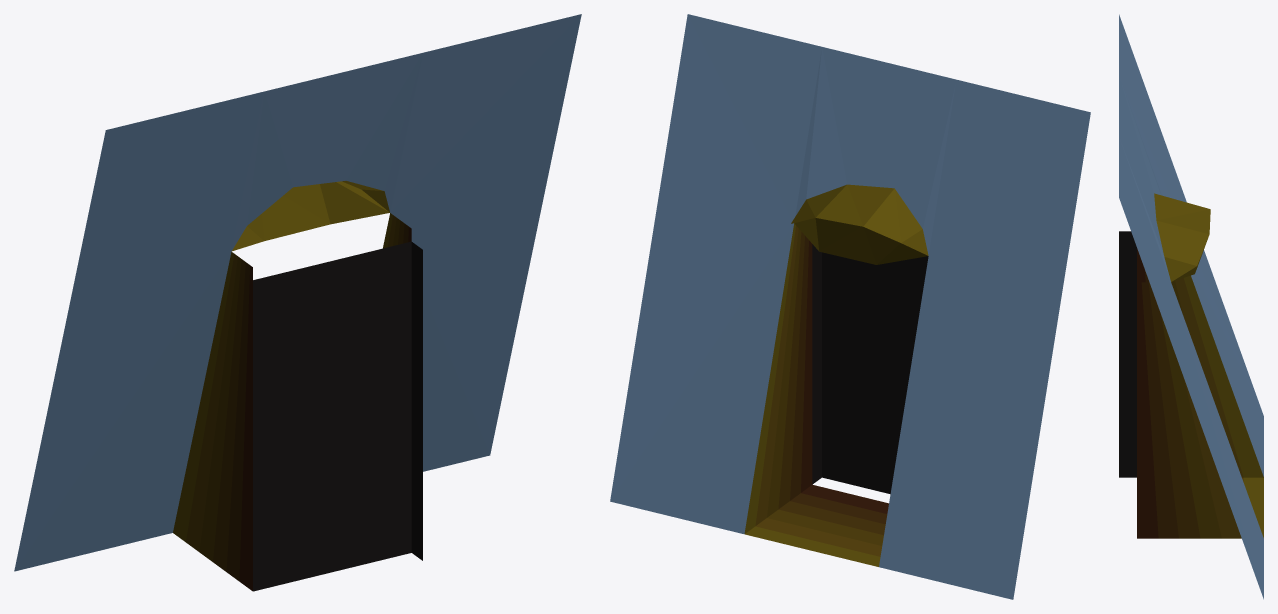
The picture shows the model from 3 angles, left to right: view 1: azimuth 30°, elevation 25°; view 2: azimuth 150°, elevation 25°; view 3: azimuth 270°, elevation 25°; orthographic projection. The views are drawn at different scales.
Bounding box in the file's own units: 3 × 3.06 × 1.
